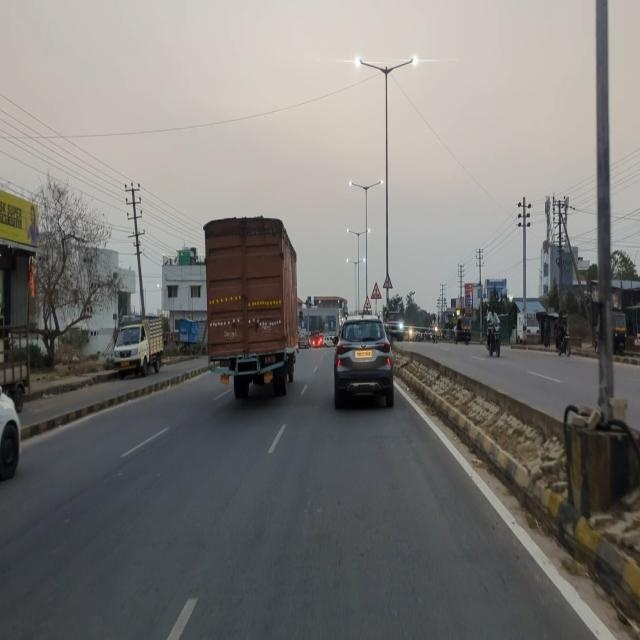bien_nguy_hiem: (371, 280, 382, 300), (382, 272, 392, 289), (364, 294, 371, 310)
